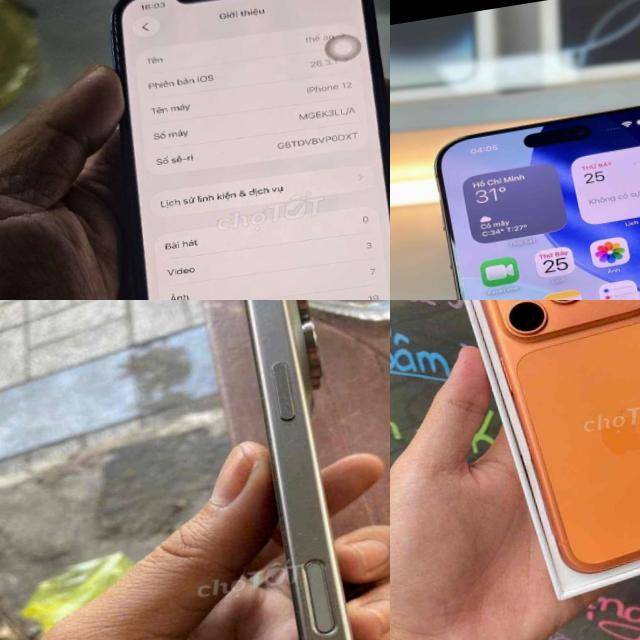scratch: (266, 512, 358, 576)
